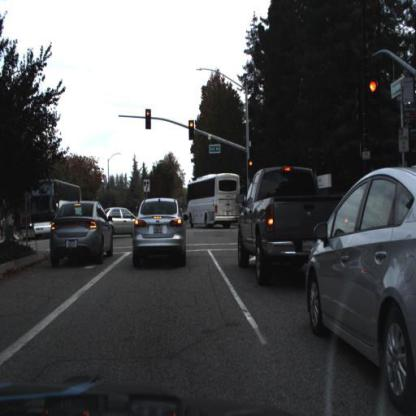car: (308, 167, 416, 385), (236, 166, 348, 286), (236, 167, 315, 287), (50, 200, 113, 264), (134, 198, 187, 268), (105, 207, 136, 239), (108, 206, 137, 236)
trafficLight-Red: (367, 75, 380, 125), (368, 78, 380, 121), (189, 120, 196, 140), (248, 160, 255, 176), (190, 120, 195, 140), (249, 159, 254, 178)
trafficLight-RedLeft: (146, 110, 152, 131)
truck: (29, 181, 84, 235), (187, 176, 241, 229), (30, 180, 81, 236)
